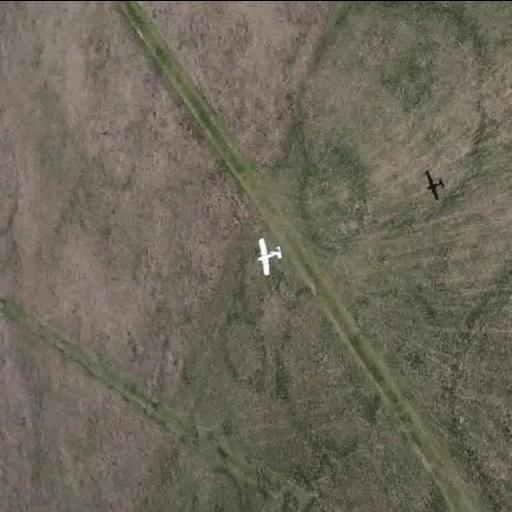uav: (248, 233, 290, 276)
